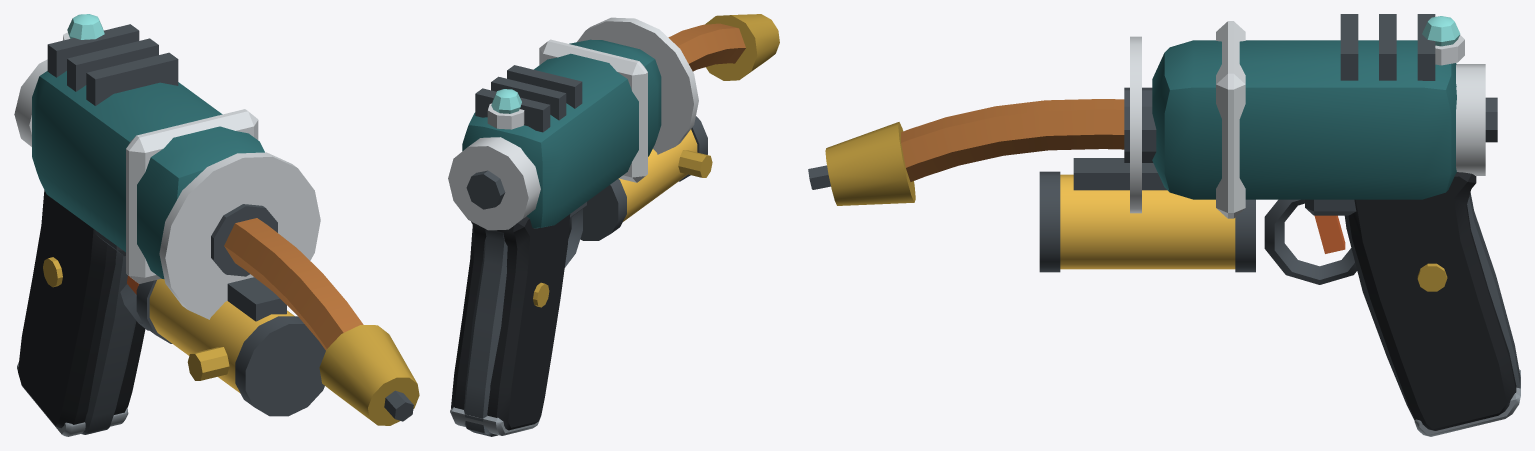
Rendered from Tool_Welder.fbx.
3 views of the same model, side by side, from view 1: azimuth 30°, elevation 25°; view 2: azimuth 150°, elevation 25°; view 3: azimuth 270°, elevation 25° (orthographic). The views are drawn at different scales.
Parts seen in each view (by area): view 1: Body, PilotLamp; view 2: Body, PilotLamp; view 3: Body, PilotLamp.
Part boxes in pixels (x1,y1,x2,y2): Body: (14, 24, 419, 436); PilotLamp: (67, 14, 104, 39); Body: (448, 14, 779, 436); PilotLamp: (491, 89, 521, 113); Body: (808, 14, 1520, 436); PilotLamp: (1422, 16, 1460, 46).
Size of the model in its own units: 0.6 by 1.53 by 2.41.
